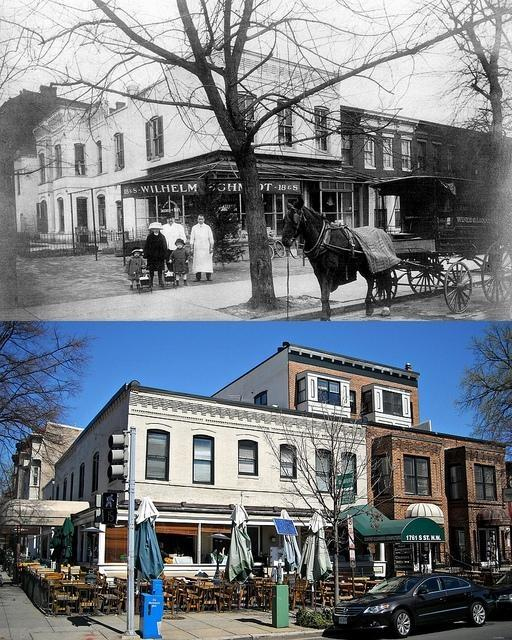bicycle: (268, 237, 286, 260)
car: (332, 572, 502, 638), (488, 566, 512, 616)
